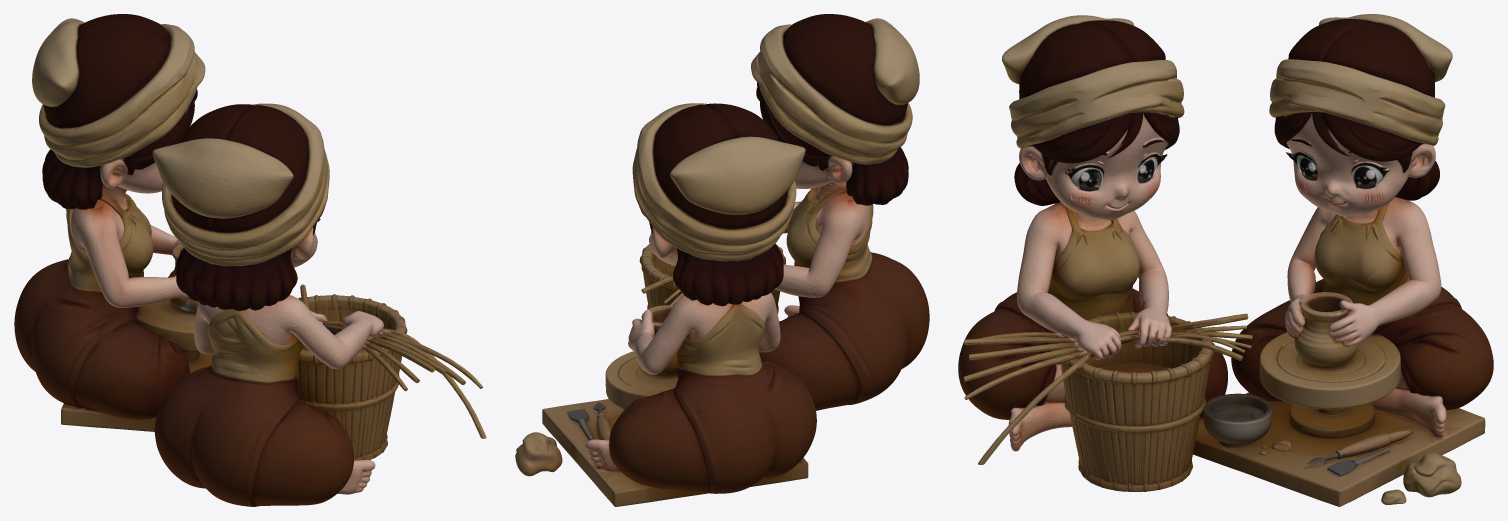
Rendered from vanlang3.glb.
The picture shows the model from 3 angles, left to right: view 1: azimuth 30°, elevation 25°; view 2: azimuth 150°, elevation 25°; view 3: azimuth 270°, elevation 25°; orthographic projection. The views are drawn at different scales.
Parts seen in each view (by area): view 1: tripo_node_a093ea06-4e1b-40c5-80e9-768de2f77e7a; view 2: tripo_node_a093ea06-4e1b-40c5-80e9-768de2f77e7a; view 3: tripo_node_a093ea06-4e1b-40c5-80e9-768de2f77e7a.
Boxes of the visible parts, box(x1,y1,x2,y2) form: tripo_node_a093ea06-4e1b-40c5-80e9-768de2f77e7a: box(14, 14, 486, 506); tripo_node_a093ea06-4e1b-40c5-80e9-768de2f77e7a: box(515, 14, 929, 506); tripo_node_a093ea06-4e1b-40c5-80e9-768de2f77e7a: box(958, 14, 1493, 506).
Bounding box in the file's own units: 0.6029 × 0.7893 × 0.9806.
Materials: 1 (1 with a texture image).
